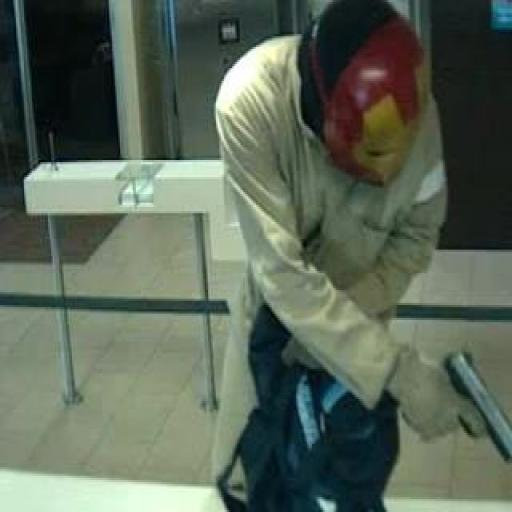Handgun: (404, 342, 510, 468)
